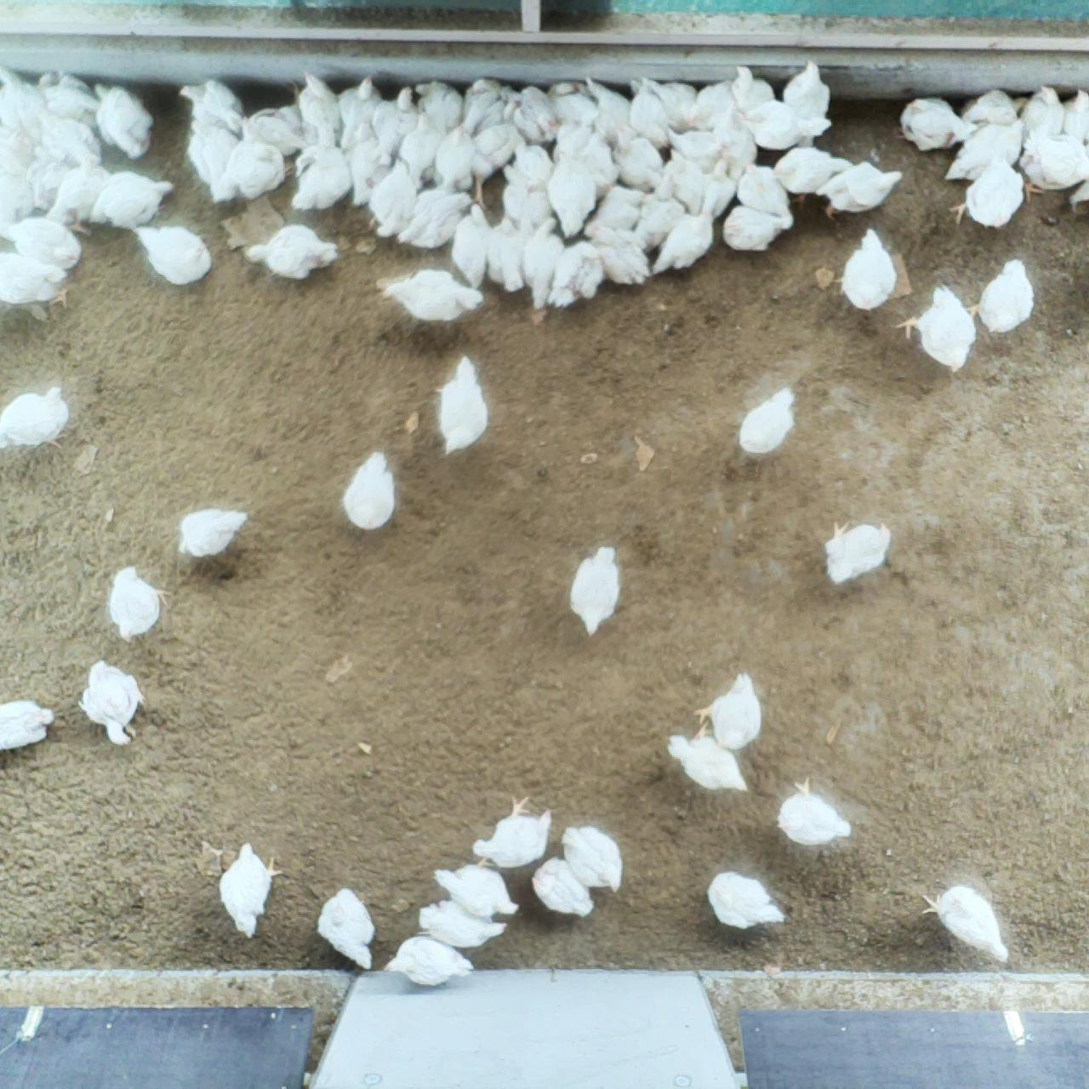chicken: (918, 881, 1013, 966), (894, 283, 979, 377), (664, 718, 751, 801), (214, 838, 284, 940), (429, 350, 492, 459), (688, 668, 767, 752), (469, 793, 553, 871), (223, 111, 294, 202), (77, 656, 147, 748), (816, 158, 907, 228), (830, 227, 900, 315), (770, 774, 854, 847), (468, 100, 523, 211), (949, 154, 1025, 234), (566, 542, 627, 641), (430, 855, 522, 920), (88, 168, 180, 233), (942, 117, 1029, 185), (381, 267, 486, 323), (1016, 123, 1089, 203), (106, 563, 176, 646), (242, 222, 340, 281), (316, 882, 380, 972), (968, 256, 1039, 336), (91, 76, 155, 164), (131, 223, 216, 289), (704, 867, 787, 933), (340, 446, 403, 531), (0, 213, 87, 274), (46, 155, 111, 236), (823, 517, 895, 590), (382, 933, 477, 987), (771, 144, 855, 205), (647, 205, 717, 278), (411, 898, 509, 950), (893, 93, 977, 153), (739, 99, 832, 153), (0, 247, 72, 316), (544, 146, 598, 238), (0, 385, 72, 453), (397, 188, 474, 251), (559, 823, 625, 896), (185, 114, 239, 202), (737, 385, 802, 458), (781, 59, 833, 149), (528, 853, 596, 921), (177, 75, 248, 136), (346, 118, 393, 210), (174, 505, 251, 561), (291, 142, 350, 214), (366, 159, 419, 239), (36, 107, 104, 169), (633, 174, 685, 251), (719, 202, 792, 256), (450, 201, 494, 290), (522, 218, 564, 311), (590, 223, 652, 286), (374, 81, 424, 157), (37, 67, 101, 126), (583, 182, 649, 239), (295, 66, 341, 146), (499, 161, 553, 228), (710, 100, 756, 178), (501, 83, 560, 143), (549, 241, 600, 310), (625, 78, 673, 151), (611, 124, 663, 191), (584, 76, 636, 142), (433, 113, 477, 190), (24, 144, 71, 215), (398, 110, 440, 189), (1018, 82, 1069, 147), (735, 160, 791, 219), (0, 698, 56, 756), (0, 66, 43, 141), (683, 74, 737, 133), (341, 71, 383, 146), (663, 147, 708, 215), (641, 76, 697, 130), (489, 216, 527, 294), (959, 87, 1031, 126), (415, 80, 466, 134), (582, 134, 620, 201), (460, 76, 502, 133), (669, 126, 730, 165), (730, 64, 777, 114), (553, 110, 599, 161), (549, 79, 601, 124), (509, 136, 553, 187), (698, 156, 736, 215), (412, 172, 459, 217), (0, 124, 34, 177), (0, 173, 37, 220), (1059, 86, 1089, 141)
